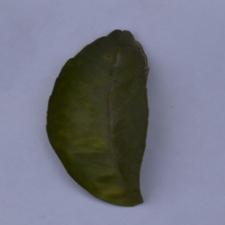Greening: (66, 31, 167, 199)
